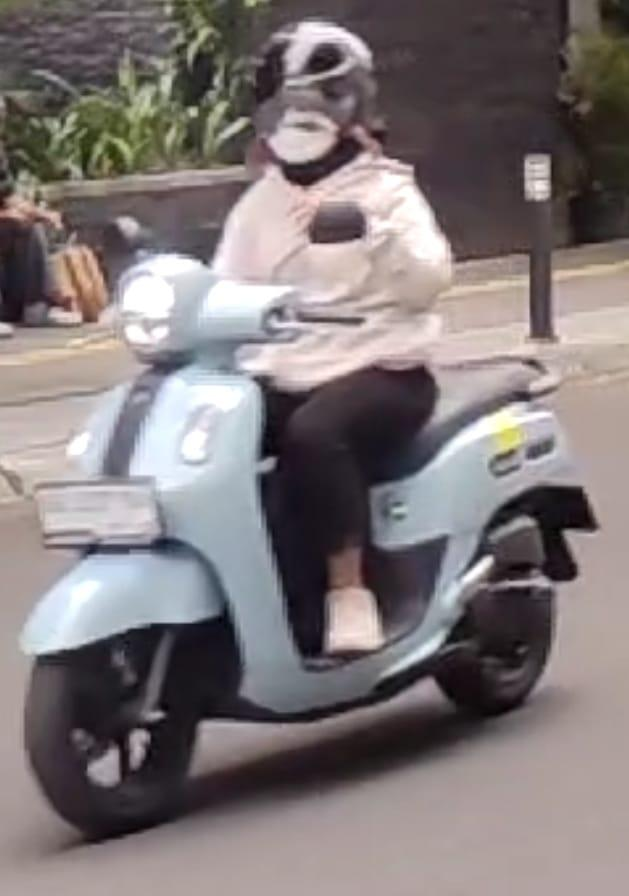helm: (249, 15, 384, 171)
riding: (17, 11, 605, 840)
